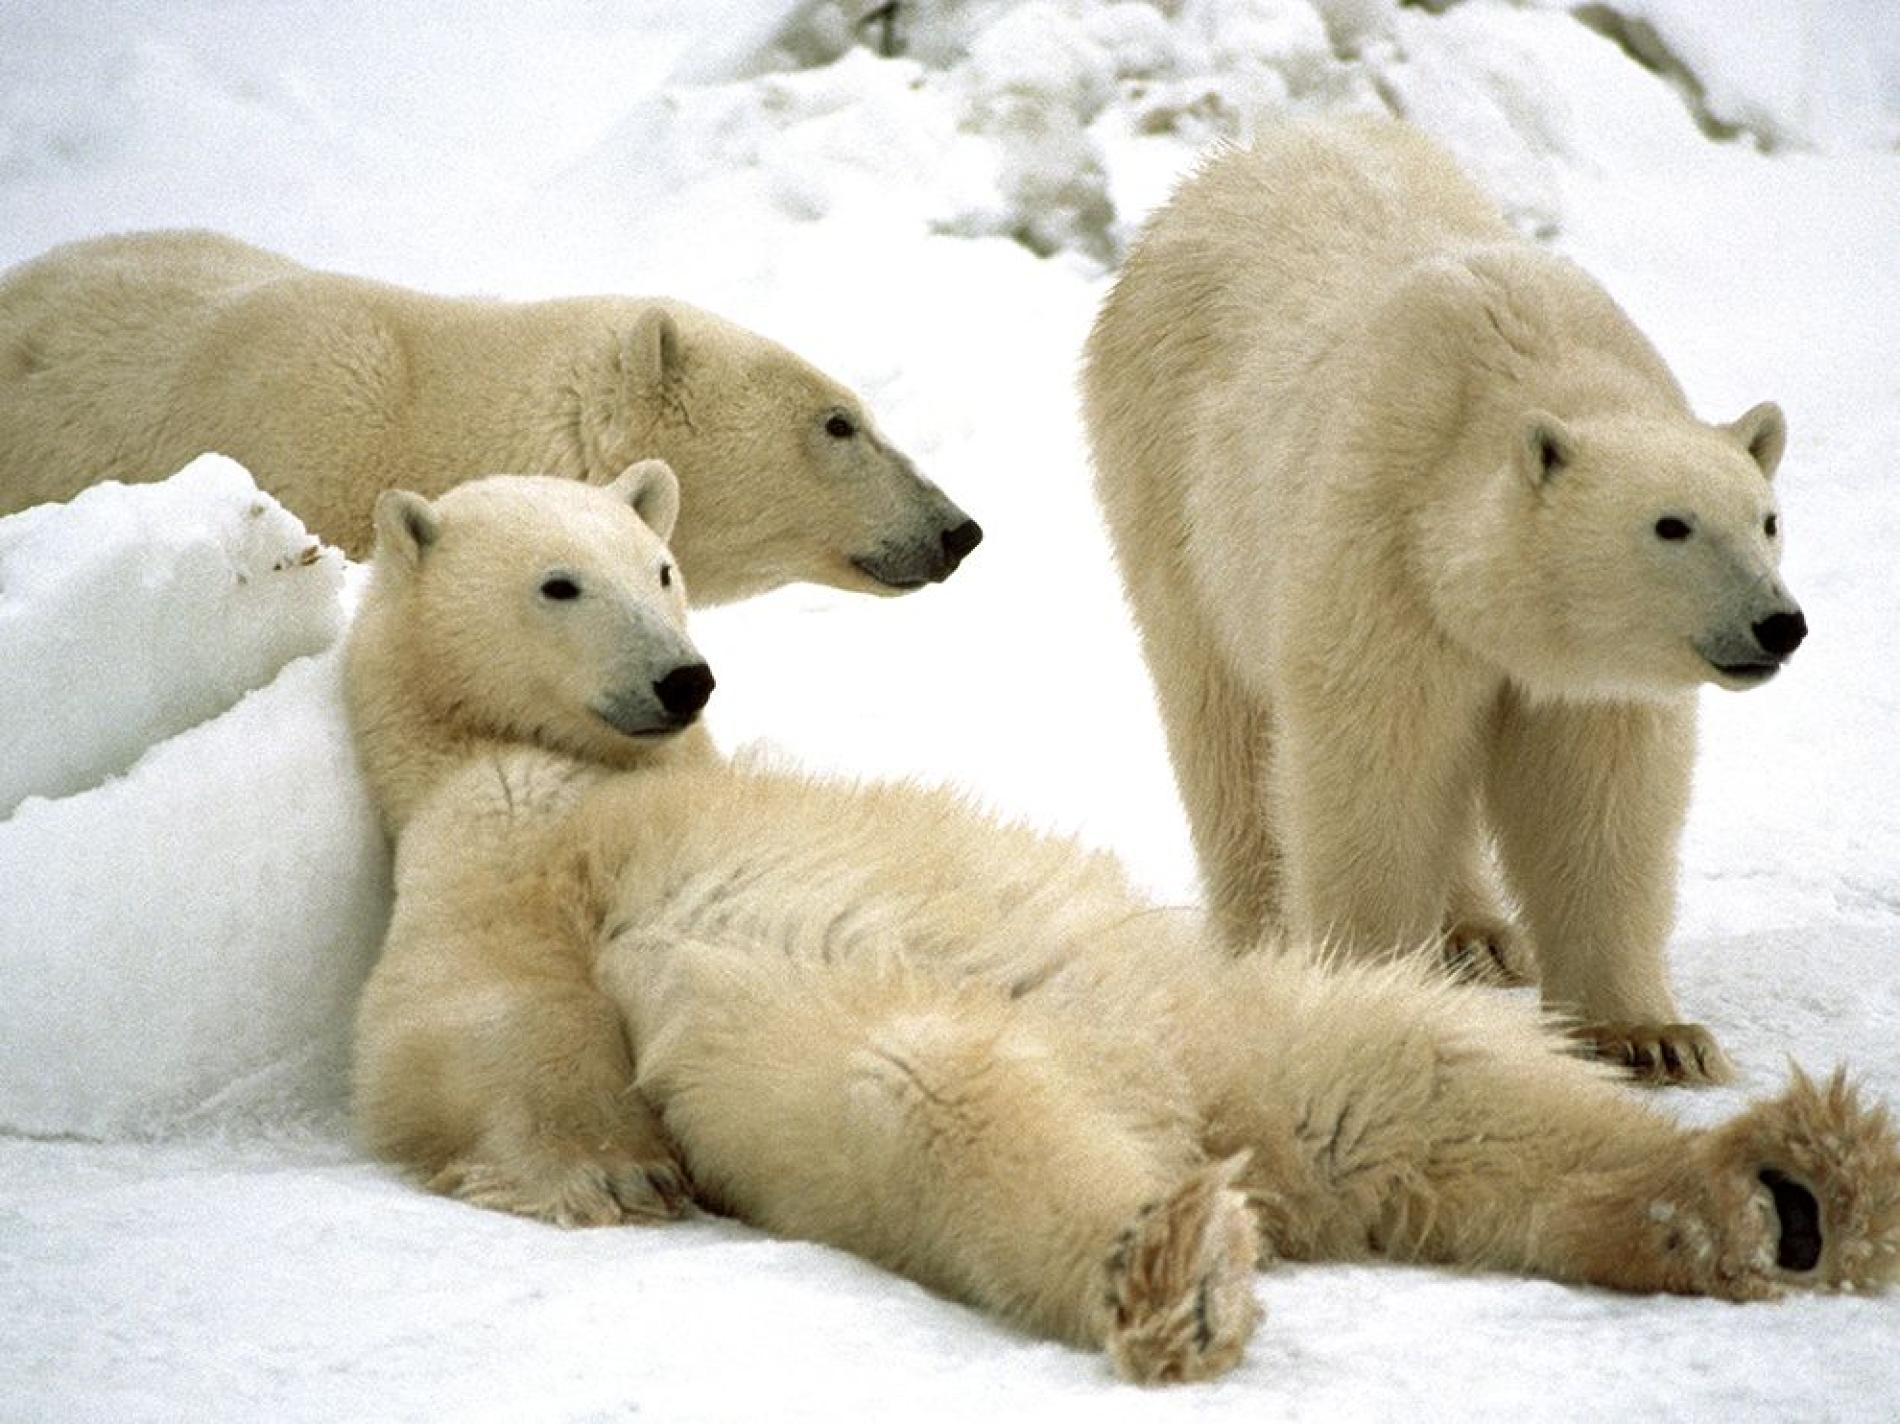Polar Bear: (331, 465, 1887, 1322), (1047, 64, 1900, 1101), (13, 144, 1007, 633)
